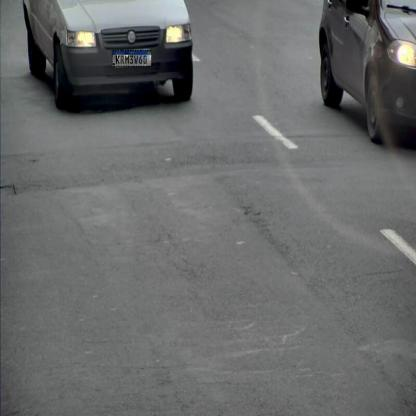PlacaM: (112, 50, 152, 66)
